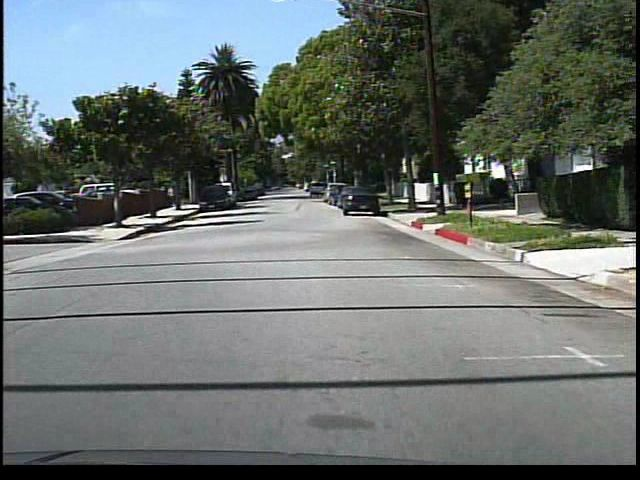person: (166, 181, 180, 208)
